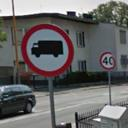speed_limit_40: (99, 48, 117, 74)
